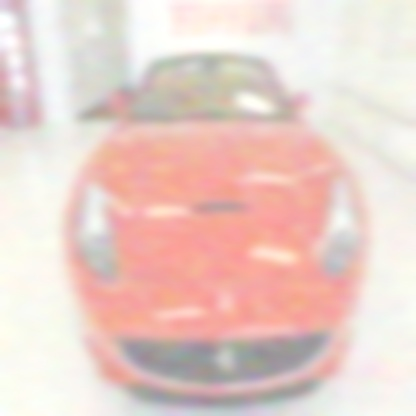Vehicle: (63, 48, 372, 405)
